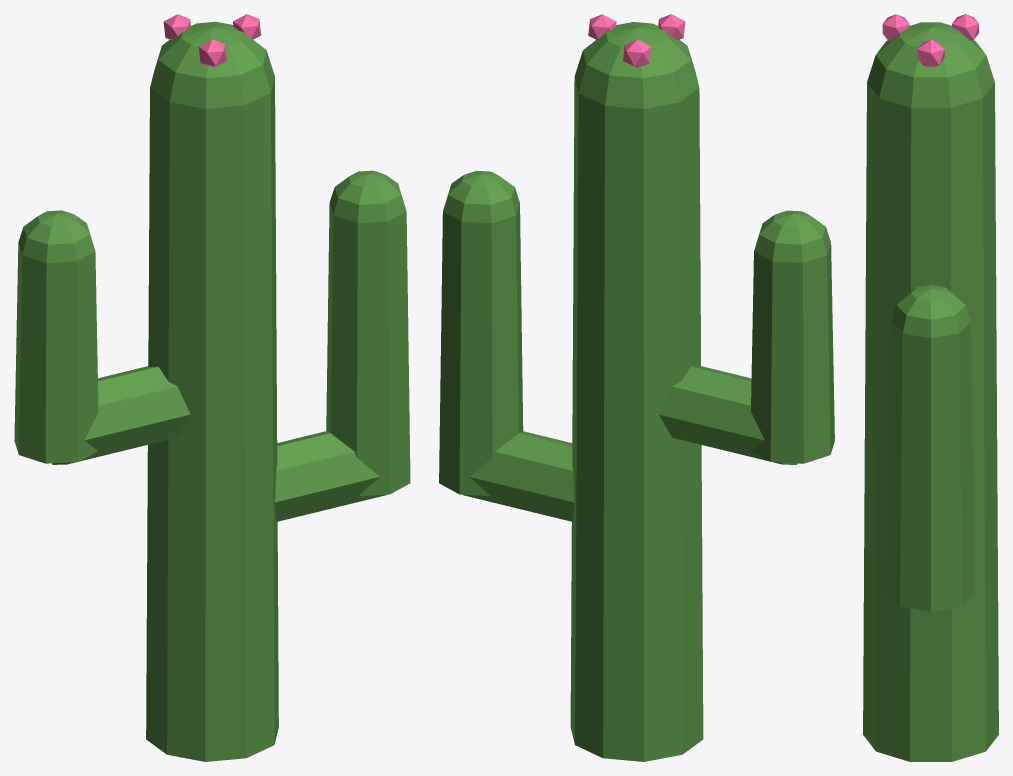
The model's file is journey_cactus.glb.
The picture shows the model from 3 angles, left to right: view 1: azimuth 30°, elevation 25°; view 2: azimuth 150°, elevation 25°; view 3: azimuth 270°, elevation 25°; orthographic projection.
Parts seen in each view (by area): view 1: Cactus_body; view 2: Cactus_body; view 3: Cactus_body.
Part boxes in pixels (left/top/right/bottom): Cactus_body: left=14, top=14, right=410, bottom=761; Cactus_body: left=439, top=14, right=834, bottom=761; Cactus_body: left=863, top=14, right=998, bottom=761.
Size of the model in its own units: 2.24 by 3.93 by 0.68.
